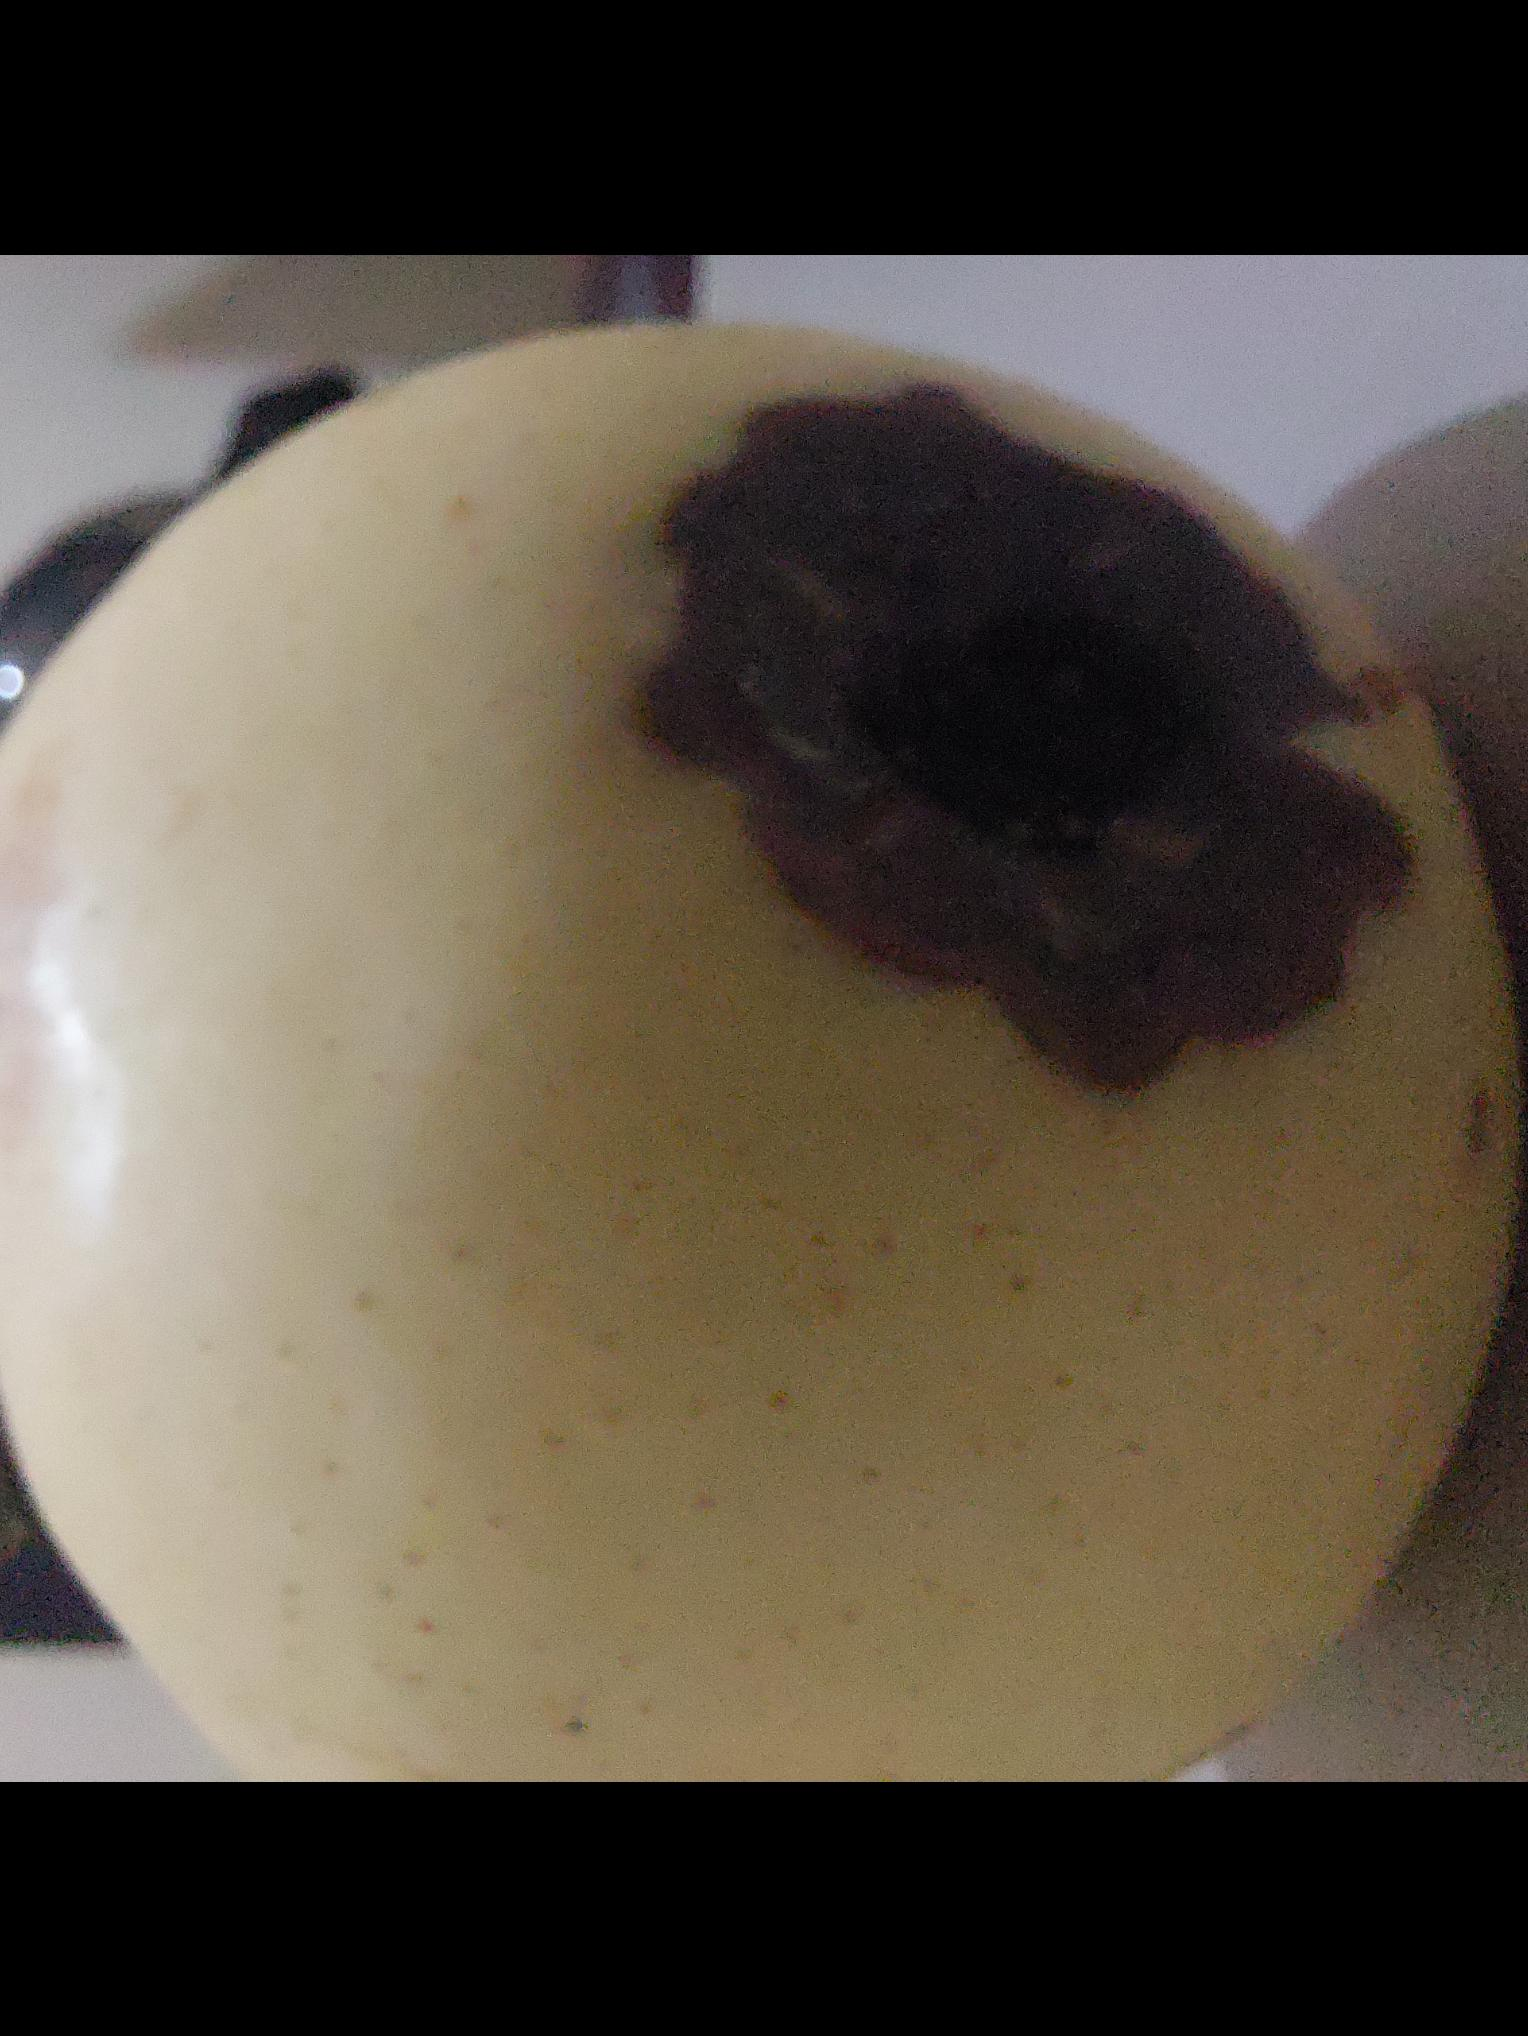Bad Pear: (0, 306, 1528, 1783)
